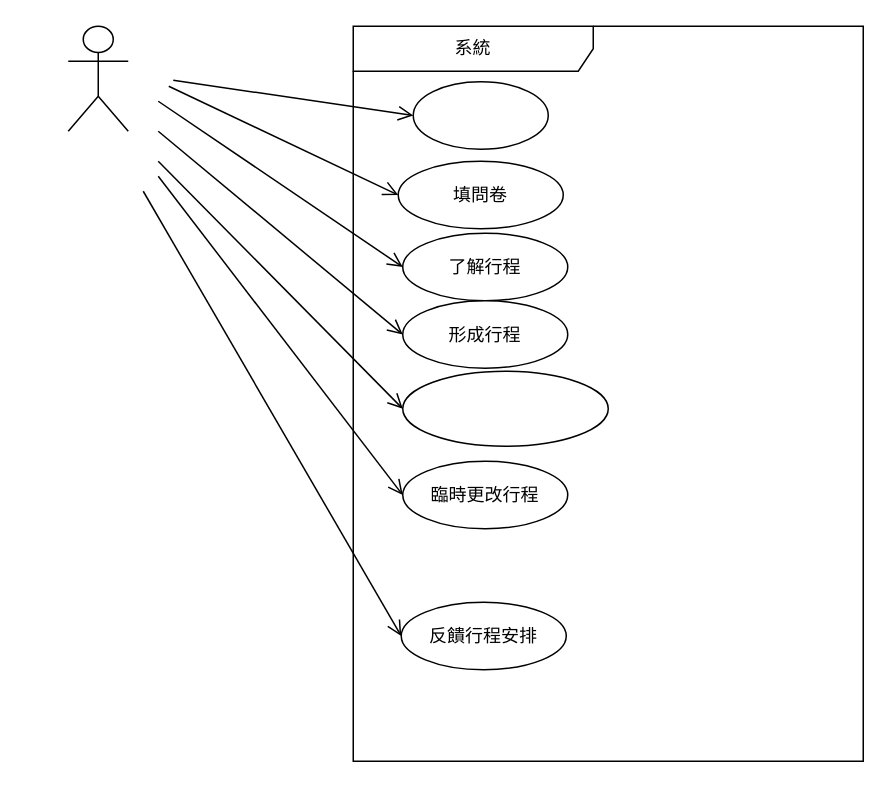
This 890x788 diagram has some shape labels left out. Here are the shapes that lost their labels. From the top down, the centre of each, then its label:
the point at 97,78: 繁忙疏於管理的人
the point at 480,114: 登入
the point at 504,408: 刪除/暫停執行完的行程
